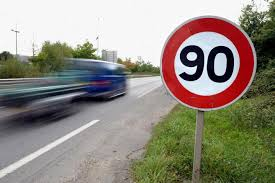Speed_limit_90km: (159, 15, 256, 110)
